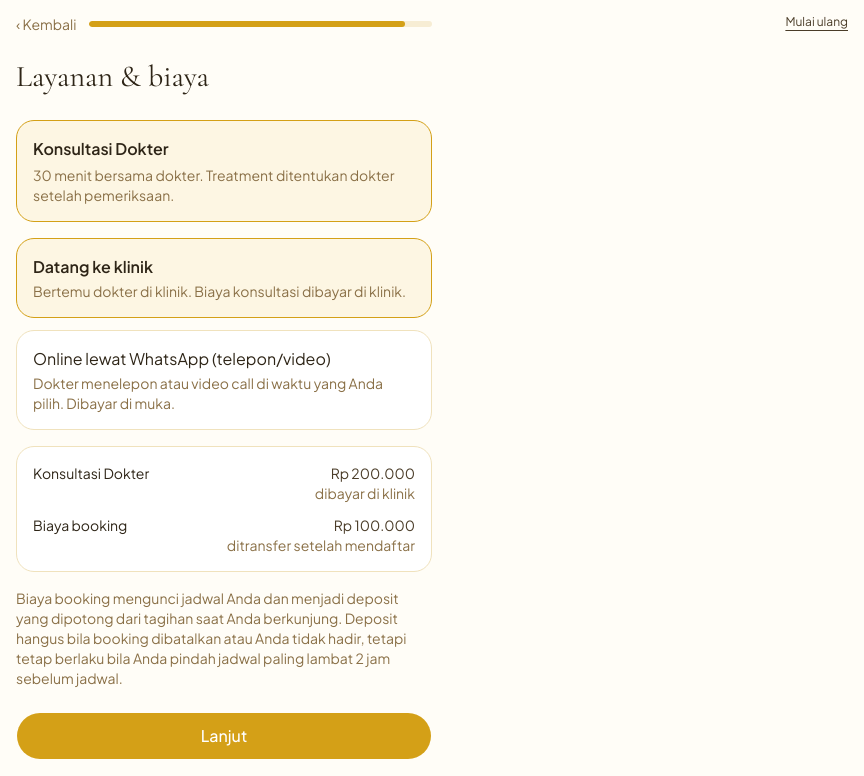
it: RegistrationFlow › layar Layanan menawarkan konsultasi online beserta total transfer
Step 1. Click the radio button labelled "Online lewat WhatsApp" → {"x": 224, "y": 380}, box [16, 330, 432, 430]
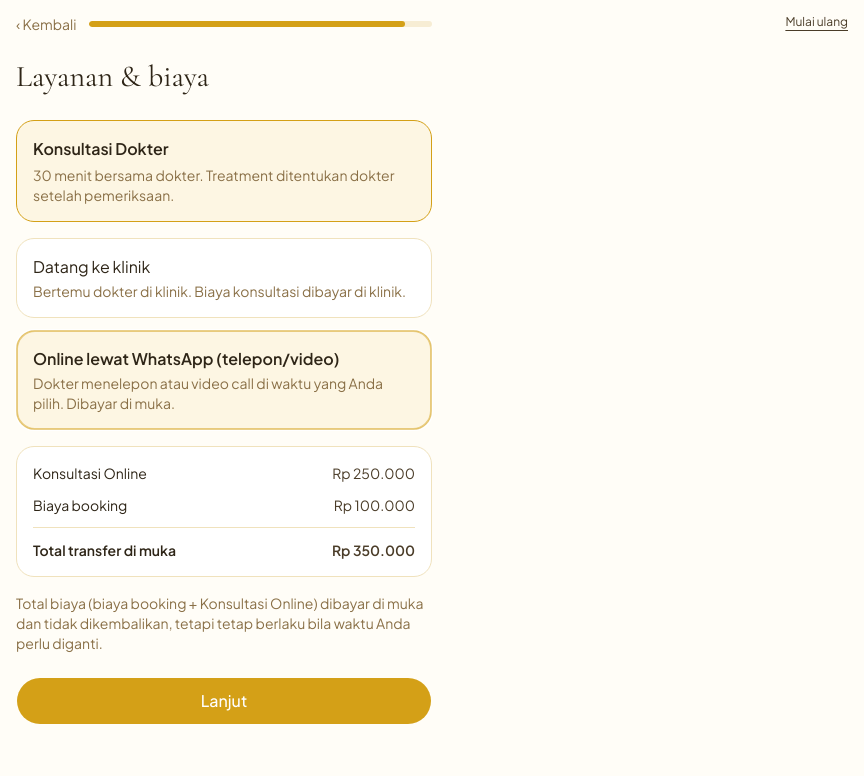
Expected: the text "Rp 350.000" is shown, [332, 540, 415, 560]
